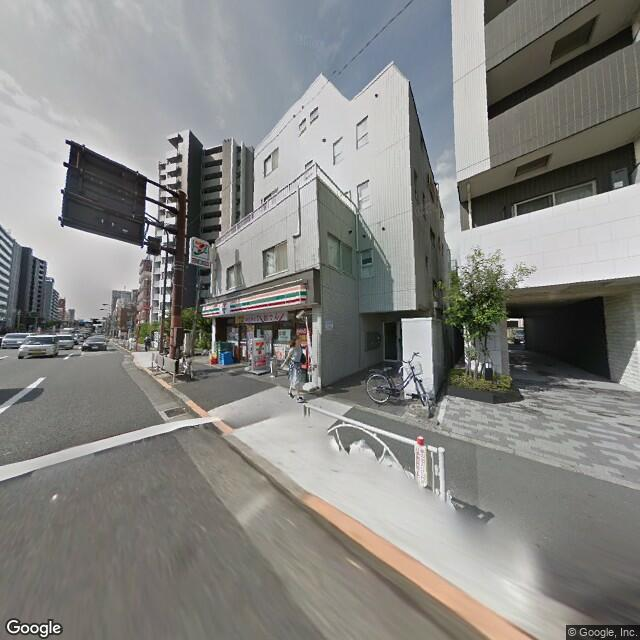7-eleven: (200, 279, 317, 322), (187, 234, 211, 263)
